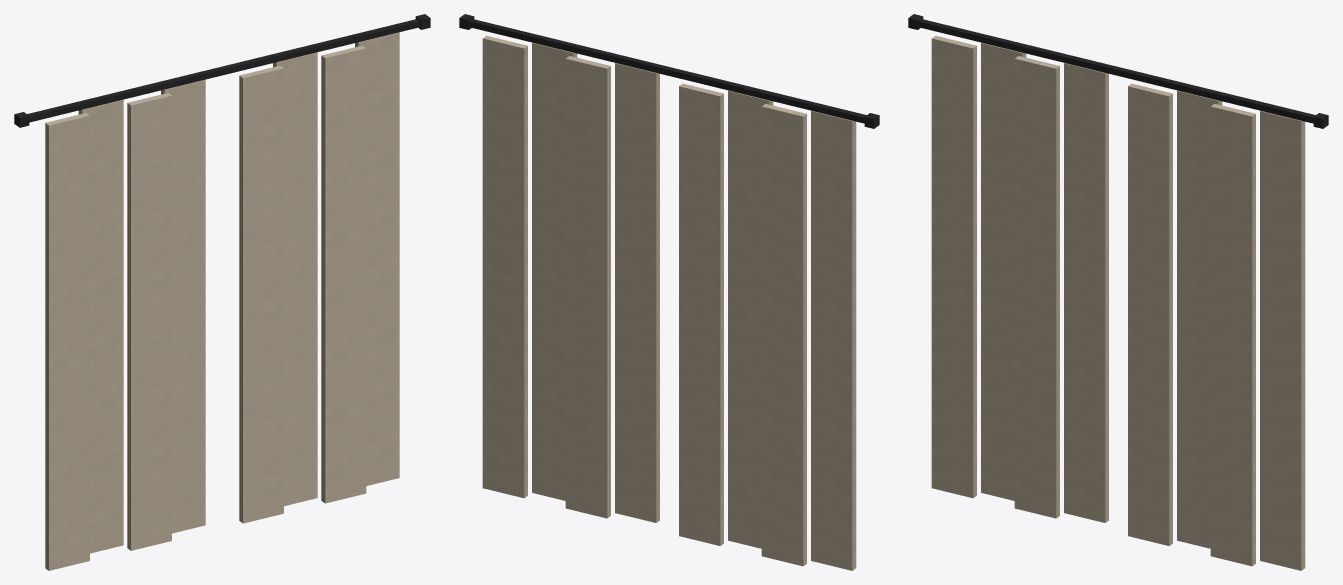
The picture shows the model from 3 angles, left to right: view 1: azimuth 30°, elevation 25°; view 2: azimuth 150°, elevation 25°; view 3: azimuth 330°, elevation 25°; orthographic projection.
Parts seen in each view (by area): view 1: Curtains_Game; view 2: Curtains_Game; view 3: Curtains_Game.
Boxes of the visible parts, box(x1,y1,x2,y2) form: Curtains_Game: box(14, 14, 430, 570); Curtains_Game: box(459, 14, 879, 570); Curtains_Game: box(908, 14, 1328, 570).
Bounding box in the file's own units: 2.2 × 2.34 × 0.105.
Materials: 2 (2 with a texture image).
